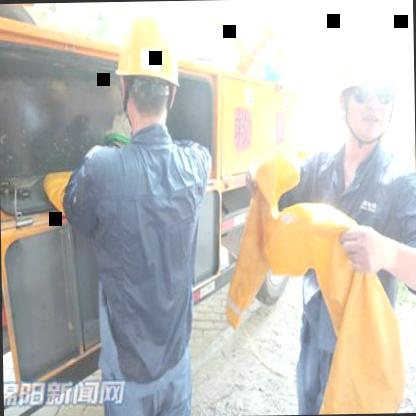helmet: (106, 3, 186, 142), (326, 36, 400, 157)
